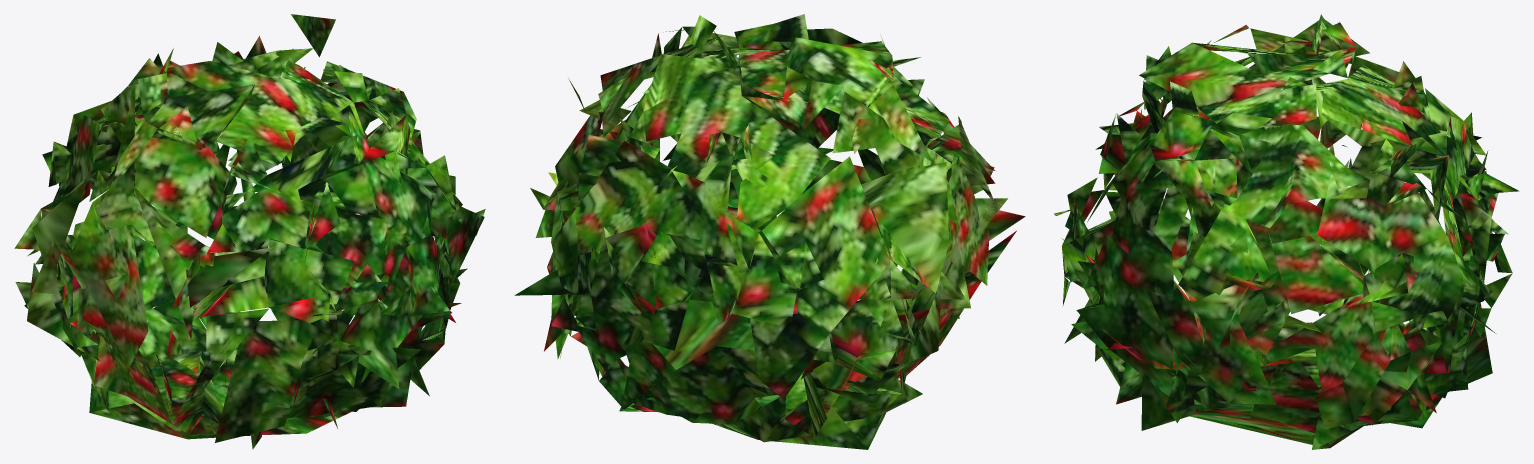
The model's file is bush.glb.
3 views of the same model, side by side, from view 1: azimuth 30°, elevation 25°; view 2: azimuth 150°, elevation 25°; view 3: azimuth 270°, elevation 25° (orthographic). The views are drawn at different scales.
Visible parts, largest first — view 1: geometry_0; view 2: geometry_0; view 3: geometry_0.
Part boxes in pixels (bbox=[...]): geometry_0: bbox=[14, 14, 485, 449]; geometry_0: bbox=[514, 14, 1025, 449]; geometry_0: bbox=[1054, 14, 1519, 449].
Bounding box in the file's own units: 1.37 × 1.13 × 1.33.
Materials: 1 (1 with a texture image).
